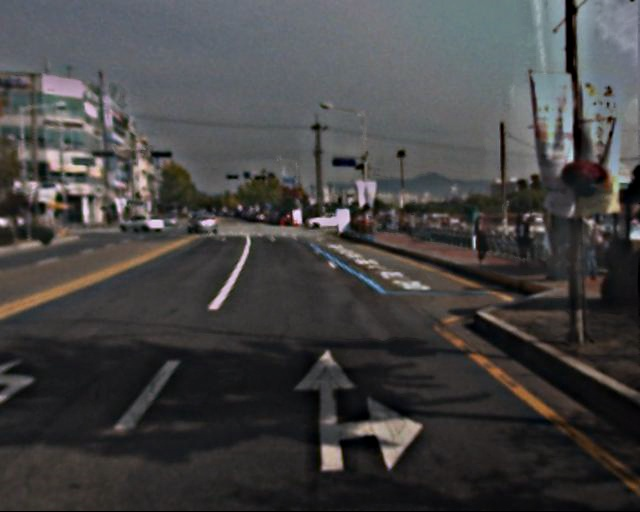person: (575, 210, 605, 284), (511, 208, 537, 271), (470, 210, 492, 264)
